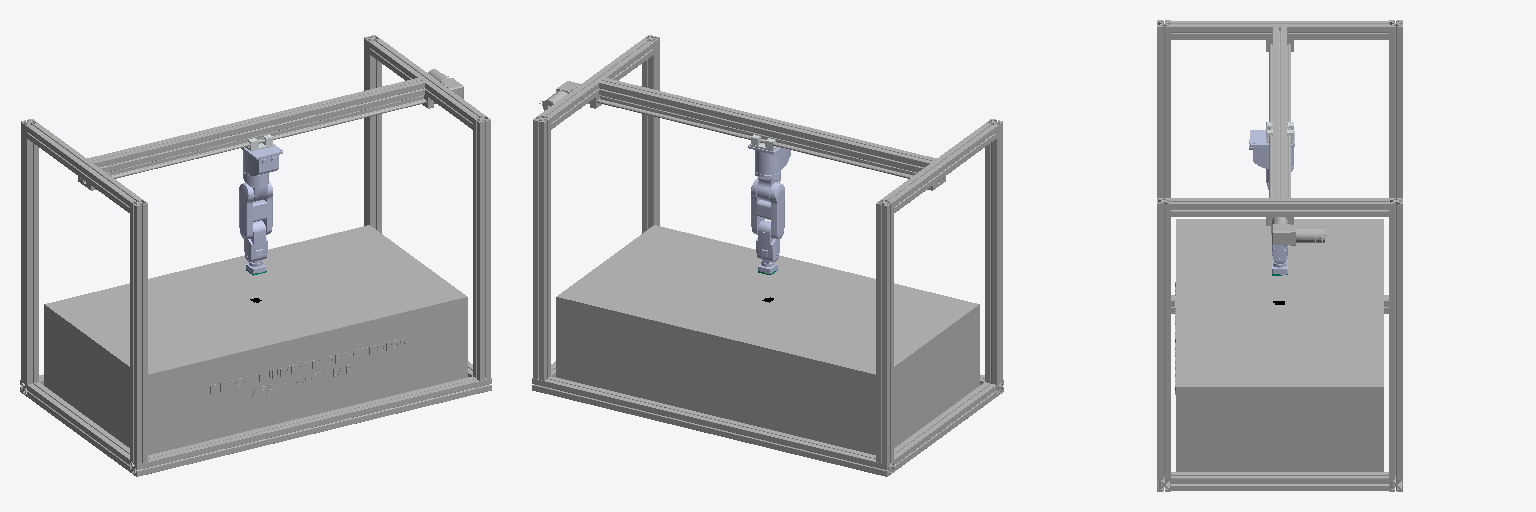
robot.urdf — aras_visual_servo:

<robot
  name="aras_visual_servo">
<gazebo>
  <plugin name="gazebo_ros_control" filename="libgazebo_ros_control.so">
    <robotNamespace>/aras_visual_servo</robotNamespace>
  </plugin>
</gazebo>
  <link
    name="base_link">
    <inertial>
      <origin
        xyz="0.0160498474847556 0.380715448526243 -0.000709642095171104"
        rpy="0 0 0" />
      <mass
        value="1729.3927673525" />
      <inertia
        ixx="475.397369733653"
        ixy="34.5663756406899"
        ixz="-1.79934549289071"
        iyy="1072.78236249213"
        iyz="-1.69210564621586"
        izz="1103.62478080047" />
    </inertial>
    <visual>
      <origin
        xyz="0 0 0"
        rpy="0 0 0" />
      <geometry>
        <mesh
          filename="package://aras_visual_servo_gazebo/meshes/base_link.STL" />
      </geometry>
      <material
        name="">
        <color
          rgba="0.752941176470588 0.752941176470588 0.752941176470588 1" />
      </material>
    </visual>
    <collision>
      <origin
        xyz="0 0 0"
        rpy="0 0 0" />
      <geometry>
        <mesh
          filename="package://aras_visual_servo_gazebo/meshes/base_link.STL" />
      </geometry>
    </collision>
  </link>
  <link
    name="slider">
    <inertial>
      <origin
        xyz="-3.2233E-10 -0.0079955 -0.00255"
        rpy="0 0 0" />
      <mass
        value="1.5957" />
      <inertia
        ixx="0.0042058"
        ixy="-8.1189E-13"
        ixz="1.3549E-07"
        iyy="0.0076559"
        iyz="-2.5549E-05"
        izz="0.0044974" />
    </inertial>
    <visual>
      <origin
        xyz="0 0 0"
        rpy="0 0 0" />
      <geometry>
        <mesh
          filename="package://aras_visual_servo_gazebo/meshes/slider.STL" />
      </geometry>
      <material
        name="">
        <color
          rgba="0.89412 0.91373 0.92941 1" />
      </material>
    </visual>
    <collision>
      <origin
        xyz="0 0 0"
        rpy="0 0 0" />
      <geometry>
        <mesh
          filename="package://aras_visual_servo_gazebo/meshes/slider.STL" />
      </geometry>
    </collision>
  </link>
  <joint
    name="gantry"
    type="prismatic">
    <origin
      xyz="0 0 1.6263"
      rpy="1.5708 -6.123E-17 -1.5708" />
    <parent
      link="base_link" />
    <child
      link="slider" />
    <axis
      xyz="0 0 -1" />
       <dynamics 
        damping="0.8" 
        friction="0.5"/>
    <limit
      lower="-1.5"
      upper="1.5"
      effort="80000"
      velocity="5" />
  </joint>
  <link
    name="link0">
    <inertial>
      <origin
        xyz="-0.03889 7.2007E-06 0.07653"
        rpy="0 0 0" />
      <mass
        value="5.272" />
      <inertia
        ixx="0.021924"
        ixy="-4.5762E-06"
        ixz="0.0018667"
        iyy="0.032682"
        iyz="-7.7909E-07"
        izz="0.030507" />
    </inertial>
    <visual>
      <origin
        xyz="0 0 0"
        rpy="0 0 0" />
      <geometry>
        <mesh
          filename="package://aras_visual_servo_gazebo/meshes/link0.STL" />
      </geometry>
      <material
        name="">
        <color
          rgba="0.79216 0.81961 0.93333 1" />
      </material>
    </visual>
    <collision>
      <origin
        xyz="0 0 0"
        rpy="0 0 0" />
      <geometry>
        <mesh
          filename="package://aras_visual_servo_gazebo/meshes/link0.STL" />
      </geometry>
    </collision>
  </link>
  <joint
    name="J0"
    type="fixed">
    <origin
      xyz="0 -0.02888 0"
      rpy="-1.5708 1.2246E-16 3.1416" />
    <parent
      link="slider" />
    <child
      link="link0" />
    <axis
      xyz="0 0 0" />
  </joint>
  <link
    name="link1">
    <inertial>
      <origin
        xyz="-0.007172 -1.9992E-07 0.080508"
        rpy="0 0 0" />
      <mass
        value="2.2792" />
      <inertia
        ixx="0.0091615"
        ixy="1.5787E-08"
        ixz="0.00018817"
        iyy="0.0096145"
        iyz="6.3703E-09"
        izz="0.0051301" />
    </inertial>
    <visual>
      <origin
        xyz="0 0 0"
        rpy="0 0 0" />
      <geometry>
        <mesh
          filename="package://aras_visual_servo_gazebo/meshes/link1.STL" />
      </geometry>
      <material
        name="">
        <color
          rgba="0.79216 0.81961 0.93333 1" />
      </material>
    </visual>
    <collision>
      <origin
        xyz="0 0 0"
        rpy="0 0 0" />
      <geometry>
        <mesh
          filename="package://aras_visual_servo_gazebo/meshes/link1.STL" />
      </geometry>
    </collision>
  </link>
  <joint
    name="J1"
    type="revolute">
    <origin
      xyz="0 0 0.168"
      rpy="0 0 0" />
    <parent
      link="link0" />
    <child
      link="link1" />
    <axis
      xyz="0 0 1" />
    <dynamics 
        damping="0.7" 
        friction="0.9"/>
    <limit
      lower="-2.0943"
      upper="2.0943"
      effort="50000"
      velocity="5" />
  </joint>
  <link
    name="link2">
    <inertial>
      <origin
        xyz="-0.00045943 -1.1149E-06 0.11501"
        rpy="0 0 0" />
      <mass
        value="3.6544" />
      <inertia
        ixx="0.039615"
        ixy="-1.5177E-09"
        ixz="-7.018E-05"
        iyy="0.02958"
        iyz="5.2465E-08"
        izz="0.015467" />
    </inertial>
    <visual>
      <origin
        xyz="0 0 0"
        rpy="0 0 0" />
      <geometry>
        <mesh
          filename="package://aras_visual_servo_gazebo/meshes/link2.STL" />
      </geometry>
      <material
        name="">
        <color
          rgba="0.79216 0.81961 0.93333 1" />
      </material>
    </visual>
    <collision>
      <origin
        xyz="0 0 0"
        rpy="0 0 0" />
      <geometry>
        <mesh
          filename="package://aras_visual_servo_gazebo/meshes/link2.STL" />
      </geometry>
    </collision>
  </link>
  <joint
    name="J2"
    type="revolute">
    <origin
      xyz="0 0 0.132"
      rpy="0 0 0" />
    <parent
      link="link1" />
    <child
      link="link2" />
    <axis
      xyz="0 1 0" />
    <dynamics 
      damping="0.1" 
      friction="0.9"/>
    <limit
      lower="-2.0943"
      upper="2.0943"
      effort="50000"
      velocity="5" />
  </joint>
  <link
    name="link3">
    <inertial>
      <origin
        xyz="7.5454E-06 -0.0003295 0.069078"
        rpy="0 0 0" />
      <mass
        value="1.6841" />
      <inertia
        ixx="0.0082866"
        ixy="6.2094E-07"
        ixz="-1.3024E-06"
        iyy="0.0076034"
        iyz="-1.2068E-05"
        izz="0.0027866" />
    </inertial>
    <visual>
      <origin
        xyz="0 0 0"
        rpy="0 0 0" />
      <geometry>
        <mesh
          filename="package://aras_visual_servo_gazebo/meshes/link3.STL" />
      </geometry>
      <material
        name="">
        <color
          rgba="0.79216 0.81961 0.93333 1" />
      </material>
    </visual>
    <collision>
      <origin
        xyz="0 0 0"
        rpy="0 0 0" />
      <geometry>
        <mesh
          filename="package://aras_visual_servo_gazebo/meshes/link3.STL" />
      </geometry>
    </collision>
  </link>
  <joint
    name="J3"
    type="revolute">
    <origin
      xyz="0 0 0.25"
      rpy="0 0 0" />
    <parent
      link="link2" />
    <child
      link="link3" />
    <axis
      xyz="0 1 0" />
    <dynamics 
        damping="0.9" 
        friction="0.9"/>
    <limit
      lower="-2.0943"
      upper="2.0943"
      effort="50000"
      velocity="5" />
  </joint>
  <link
    name="link5">
    <inertial>
      <origin
        xyz="6.3435E-09 -6.8497E-10 -0.0052055"
        rpy="0 0 0" />
      <mass
        value="1.32285" />
      <inertia
        ixx="0.00029998"
        ixy="-7.1309E-12"
        ixz="-6.7415E-11"
        iyy="0.00041146"
        iyz="2.4233E-12"
        izz="0.00021741" />
    </inertial>
    <visual>
      <origin
        xyz="0 0 0"
        rpy="0 0 0" />
      <geometry>
        <mesh
          filename="package://aras_visual_servo_gazebo/meshes/link5.STL" />
      </geometry>
      <material
        name="">
        <color
          rgba="0.79216 0.81961 0.93333 1" />
      </material>
    </visual>
    <collision>
      <origin
        xyz="0 0 0"
        rpy="0 0 0" />
      <geometry>
        <mesh
          filename="package://aras_visual_servo_gazebo/meshes/link5.STL" />
      </geometry>
    </collision>
  </link>
  <joint
    name="J5"
    type="revolute">
    <origin
      xyz="0 0 0.16"
      rpy="0 0 3.1416" />
    <parent
      link="link3" />
    <child
      link="link5" />
    <axis
      xyz="0 -1 0" />
    <dynamics 
        damping="0.9" 
        friction="0.9"/>
    <limit
      lower="-2.0943"
      upper="2.0943"
      effort="50000"
      velocity="5" />
  </joint>
  <link
    name="link6">
    <inertial>
      <origin
        xyz="6.7949E-06 2.6973E-17 0.0076492"
        rpy="0 0 0" />
      <mass
        value="0.3641" />
      <inertia
        ixx="0.00031783"
        ixy="-3.1885E-20"
        ixz="-2.882E-08"
        iyy="0.0003178"
        iyz="2.216E-20"
        izz="0.00043046" />
    </inertial>
    <visual>
      <origin
        xyz="0 0 0"
        rpy="0 0 0" />
      <geometry>
        <mesh
          filename="package://aras_visual_servo_gazebo/meshes/link6.STL" />
      </geometry>
      <material
        name="">
        <color
          rgba="0.79216 0.81961 0.93333 1" />
      </material>
    </visual>
    <collision>
      <origin
        xyz="0 0 0"
        rpy="0 0 0" />
      <geometry>
        <mesh
          filename="package://aras_visual_servo_gazebo/meshes/link6.STL" />
      </geometry>
    </collision>
  </link>
  <joint
    name="J6"
    type="revolute">
    <origin
      xyz="0 0 0.0718"
      rpy="0 0 -3.1416" />
    <parent
      link="link5" />
    <child
      link="link6" />
    <axis
      xyz="0 0 1" />
    <dynamics 
        damping="0.1" 
        friction="0.9"/>
    <limit
      lower="-3000"
      upper="3000"
      effort="50000"
      velocity="5" />
 </joint>
 <link name="planar_object">
      
    <inertial>
      <origin xyz="0 0 0" /> 
      <mass value="1.0" />
      <inertia  ixx="1.0" ixy="0.0"  ixz="0.0"  iyy="100.0"  iyz="0.0"  izz="1.0" />
    </inertial>
    <visual>
      <material name="black">
        <color rgba="0 0 0 1"/>
      </material>
      <origin xyz="0 0 0"/>
      <geometry>
        <box size="0.05 0.001 0.05" />
      </geometry>
    </visual>
    <collision>
      <origin xyz="0 0 0"/>
      <geometry>
        <box size="0.05 0.001 0.05" />
      </geometry>
    </collision>
  </link>
  
  <link name="planar_object_2">
    <inertial>
      <origin xyz="0 0 0" /> 
      <mass value="1.0" />
      <inertia  ixx="1.0" ixy="0.0"  ixz="0.0"  iyy="100.0"  iyz="0.0"  izz="1.0" />
    </inertial>
    <visual>
      <material name="black">
        <color rgba="0 0 0 1"/>
      </material>
      <origin xyz="0.025 0.0005 0.005"/>
      <geometry>
        <box size="0.025 0.0005 0.025" />
      </geometry>
    </visual>
    <collision>
      <origin xyz="0.025 0.0005 0.005"/>
      <geometry>
        <box size="0.025 0.0005 0.025" />
      </geometry>
    </collision>
  </link>

  <gazebo reference="planar_object">
    <material>Gazebo/Black</material>
  </gazebo>
  
  <gazebo reference="planar_object_2">
    <material>Gazebo/Black</material>
  </gazebo>

  <joint
    name="J01"
    type="fixed">
    <origin
      xyz="0 0 0.59"
      rpy="1.5708 -6.123E-17 -1.5708" />
    <parent
      link="base_link" />
    <child
      link="planar_object" />
    <axis
      xyz="0 0 0" />
       <dynamics 
        damping="0.1" 
        friction="0.9"/>
    <limit
      lower="-1.5"
      upper="1.5"
      effort="30"
      velocity="20" />
  </joint>
  <joint
    name="J02"
    type="fixed">
    <origin
      xyz="0 0 0.59"
      rpy="1.5708 -6.123E-17 -1.5708" />
    <parent
      link="base_link" />
    <child
      link="planar_object_2" />
    <axis
      xyz="0 0 0" />
       <dynamics 
        damping="0.1" 
        friction="0.9"/>
    <limit
      lower="-1.5"
      upper="1.5"
      effort="30"
      velocity="20" />
  </joint>
  <!-- Camera -->
  <joint name="camera_joint" type="fixed">
    <axis xyz="0 0 0" />
    <origin xyz="0 0 0.0334" rpy="3.14 -1.57 0"/>
    <parent link="link6"/>
    <child link="camera_link"/>
  </joint>
 
  <link name="camera_link">
    <collision>
      <origin xyz="0 0 0" rpy="0 0 0"/>
      <geometry>
    <box size="0.01 0.09 0.09"/>
      </geometry>
    </collision>
 
    <visual>
      <origin xyz="0 0 0" rpy="0 0 0"/>
      <geometry>
        <box size="0.01 0.09 0.09 "/>
      </geometry>
      <material name="red"/>
    </visual>
 
    <inertial>
      <mass value="0.1" />
      <origin xyz="0 0 0" rpy="0 0 0"/>
      <inertia ixx="1e-6" ixy="0" ixz="0" iyy="1e-6" iyz="0" izz="1e-6" />
    </inertial>
  </link>
  <transmission name="gantry">
      <type>transmission_interface/SimpleTransmission</type>
    <actuator name="gantry_motor">
    </actuator>
    <joint name="gantry">
      <hardwareInterface>EffortJointInterface</hardwareInterface>
    </joint>
    <mechanicalReduction>50.0</mechanicalReduction>
      <motorTorqueConstant>1.0</motorTorqueConstant>
  </transmission>

<gazebo reference="gantry">
    <erp>0.1</erp>
    <stopKd value="100000000.0" />
    <stopKp value="100000000.0" />
    <fudgeFactor value="0.1" />
 </gazebo>

   <transmission name="J1">
      <type>transmission_interface/SimpleTransmission</type>
    <actuator name="motor1">
    </actuator>
    <joint name="J1">
      <hardwareInterface>EffortJointInterface</hardwareInterface>
    </joint>
    <mechanicalReduction>100.0</mechanicalReduction>
      <motorTorqueConstant>1.0</motorTorqueConstant>
  </transmission>

<gazebo reference="J1">
    <erp>0.1</erp>
    <stopKd value="100000000.0" />
    <stopKp value="100000000.0" />
    <fudgeFactor value="0.1" />
 </gazebo>

    <transmission name="J2">
      <type>transmission_interface/SimpleTransmission</type>
    <actuator name="motor2">
    </actuator>
    <joint name="J2">
      <hardwareInterface>EffortJointInterface</hardwareInterface>
    </joint>
    <mechanicalReduction>100.0</mechanicalReduction>
      <motorTorqueConstant>1.0</motorTorqueConstant>
  </transmission>

<gazebo reference="J2">
    <erp>0.1</erp>
    <stopKd value="100000000.0" />
    <stopKp value="100000000.0" />
    <fudgeFactor value="0.1" />
 </gazebo>

 <transmission name="J3">
      <type>transmission_interface/SimpleTransmission</type>
    <actuator name="motor3">
    </actuator>
    <joint name="J3">
      <hardwareInterface>EffortJointInterface</hardwareInterface>
    </joint>
    <mechanicalReduction>10.0</mechanicalReduction>
      <motorTorqueConstant>1.0</motorTorqueConstant>
  </transmission>

<gazebo reference="J3">
    <erp>0.1</erp>
    <stopKd value="100000000.0" />
    <stopKp value="100000000.0" />
    <fudgeFactor value="0.1" />
 </gazebo>

  <transmission name="J5">
      <type>transmission_interface/SimpleTransmission</type>
    <actuator name="motor5">
    </actuator>
    <joint name="J5">
      <hardwareInterface>EffortJointInterface</hardwareInterface>
    </joint>
    <mechanicalReduction>10.0</mechanicalReduction>
      <motorTorqueConstant>1.0</motorTorqueConstant>
  </transmission>

<gazebo reference="J5">
    <erp>0.1</erp>
    <stopKd value="100000000.0" />
    <stopKp value="100000000.0" />
    <fudgeFactor value="0.1" />
 </gazebo>

 <transmission name="J6">
      <type>transmission_interface/SimpleTransmission</type>
    <actuator name="motor6">
    </actuator>
    <joint name="J6">
      <hardwareInterface>EffortJointInterface</hardwareInterface>
    </joint>
    <mechanicalReduction>10.0</mechanicalReduction>
      <motorTorqueConstant>1.0</motorTorqueConstant>
  </transmission>

<gazebo reference="J6">
    <erp>0.1</erp>
    <stopKd value="100000000.0" />
    <stopKp value="100000000.0" />
    <fudgeFactor value="0.1" />
 </gazebo>

  <gazebo reference="base_link">
    <mu1>100</mu1>
    <mu2>100</mu2>

  </gazebo>
  <gazebo reference="slider">
    <mu1>100</mu1>
    <mu2>100</mu2>
   
  </gazebo>
  <gazebo reference="camera_link">
    <sensor type="camera" name="camera1">
      <update_rate>30.0</update_rate>
      <camera name="head">
        <horizontal_fov>2</horizontal_fov>
        <image>
          <width>320</width>
          <height>240</height>
          <format>R8G8B8</format>
        </image>
      </camera>
      <plugin name="camera_controller" filename="libgazebo_ros_camera.so">
        <alwaysOn>true</alwaysOn>
        <updateRate>30.0</updateRate>
        <cameraName>labrob/camera</cameraName>
        <imageTopicName>image_raw</imageTopicName>
        <cameraInfoTopicName>camera_info</cameraInfoTopicName>
        <frameName>camera_link</frameName>
        <hackBaseline>0.07</hackBaseline>
        <distortionK1>0.0</distortionK1>
        <distortionK2>0.0</distortionK2>
        <distortionK3>0.0</distortionK3>
        <distortionT1>0.0</distortionT1>
        <distortionT2>0.0</distortionT2>
      </plugin>
    </sensor>
  </gazebo>
</robot>

--- Facts derived from the render (not from the file) ---
3 views of the same robot in one strip: view 1: azimuth 30°, elevation 25°; view 2: azimuth 150°, elevation 25°; view 3: azimuth 270°, elevation 25° (orthographic).
Model aras_visual_servo with 11 links and 10 joints (5 revolute, 1 prismatic, 4 fixed), rooted at base_link, posed all joints at 0.
Links seen in each view (by area): view 1: base_link, link2, link0, link3; view 2: base_link, link2, link0, link3; view 3: base_link, link0.
Boxes of the visible links, x1=… form: base_link: x1=20, y1=35, x2=491, y2=476; link2: x1=239, y1=181, x2=272, y2=238; link0: x1=241, y1=144, x2=282, y2=175; link3: x1=244, y1=220, x2=267, y2=261; base_link: x1=532, y1=35, x2=1003, y2=476; link2: x1=751, y1=178, x2=784, y2=239; link0: x1=748, y1=144, x2=790, y2=174; link3: x1=756, y1=220, x2=779, y2=261; base_link: x1=1157, y1=20, x2=1402, y2=491; link0: x1=1249, y1=130, x2=1294, y2=168.
Size in the robot's own frame: 2.63 by 1.36 by 1.75 metres.
Meshes: 8 distinct files referenced, 8 mesh visuals loaded (8 binary STL).
